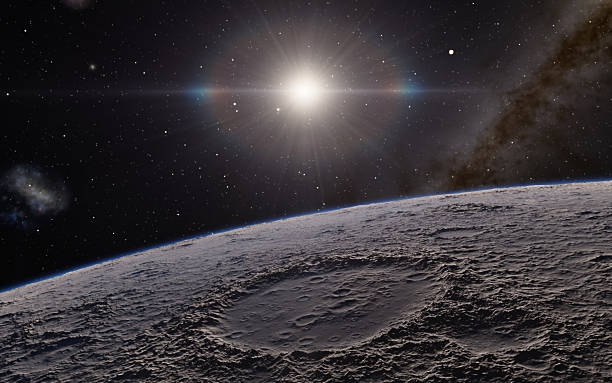crater: (202, 249, 464, 357)
